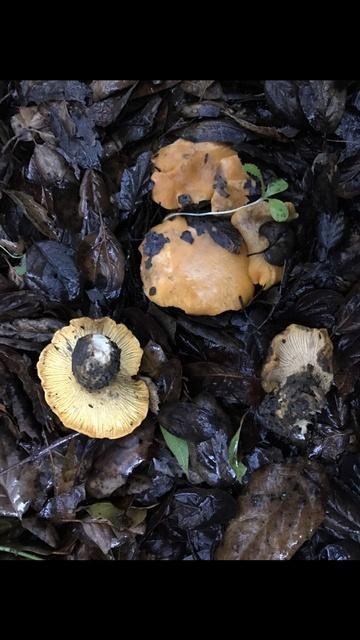edible_mushroom: (144, 145, 272, 323), (35, 315, 150, 439)
